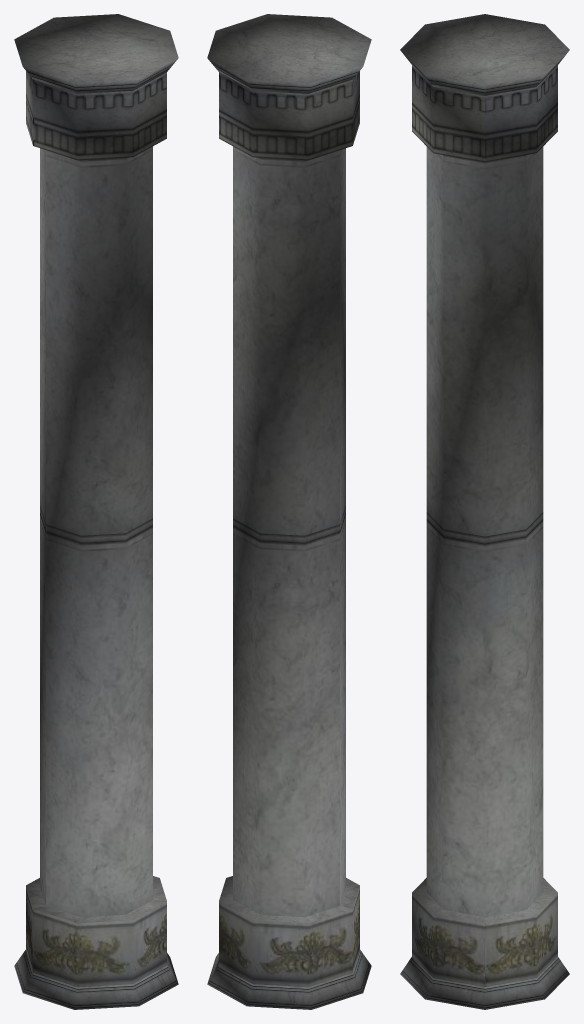
Rendered from pillar_large_01.glb.
The picture shows the model from 3 angles, left to right: view 1: azimuth 30°, elevation 25°; view 2: azimuth 150°, elevation 25°; view 3: azimuth 270°, elevation 25°; orthographic projection.
Parts seen in each view (by area): view 1: pillar_large_01; view 2: pillar_large_01; view 3: pillar_large_01.
Boxes of the visible parts, x1,y1,x2,y2 form: pillar_large_01: [14, 14, 178, 1009]; pillar_large_01: [207, 14, 371, 1009]; pillar_large_01: [400, 14, 569, 1009].
Size of the model in its own units: 1 by 6 by 1.
1 material, 1 textured.
